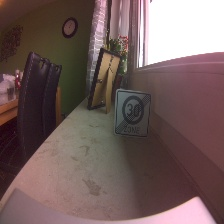dreisiger_zone_ende: (113, 89, 151, 137)
